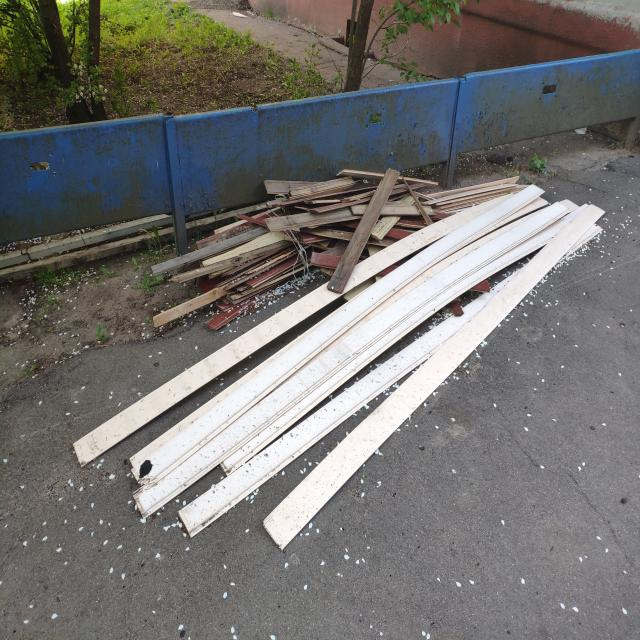entulho: (330, 210, 492, 339), (143, 230, 330, 334), (195, 362, 313, 522), (476, 197, 607, 317), (130, 384, 240, 508), (282, 352, 398, 457), (264, 446, 357, 550), (0, 228, 176, 276), (74, 385, 161, 469), (268, 176, 398, 224), (422, 181, 531, 222)
